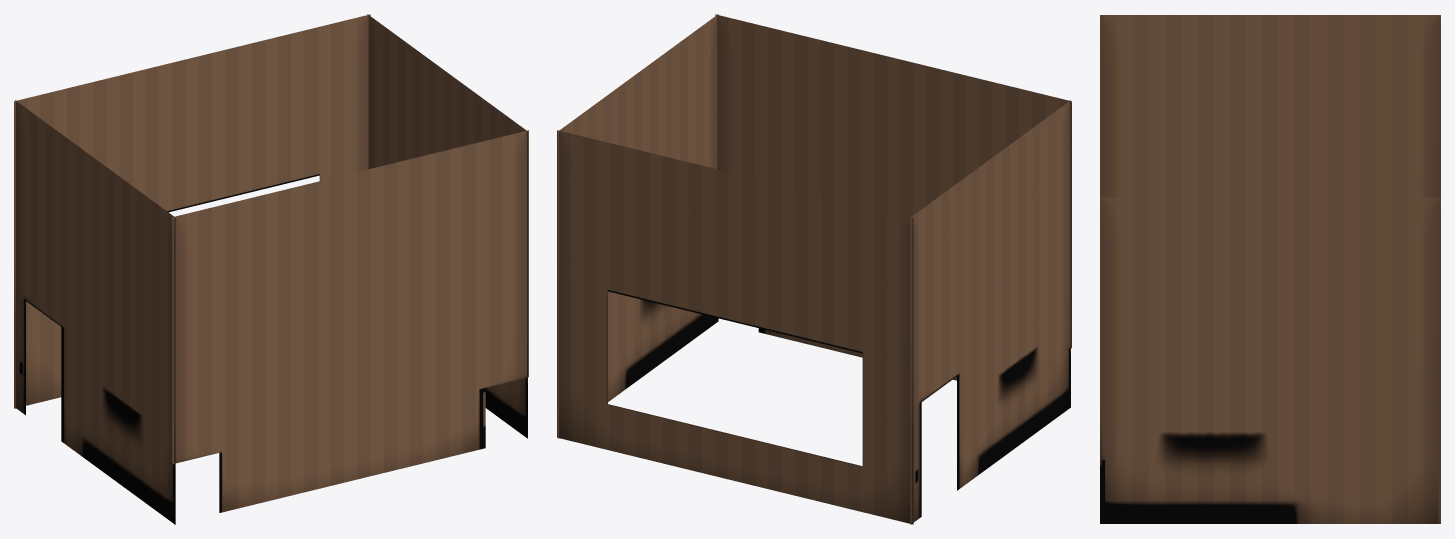
Rendered from DefaultLevel_N_Wall.fbx.
3 views of the same model, side by side, from view 1: azimuth 30°, elevation 25°; view 2: azimuth 150°, elevation 25°; view 3: azimuth 270°, elevation 25° (orthographic). The views are drawn at different scales.
Parts seen in each view (by area): view 1: DefaultLevel_N_Wall; view 2: DefaultLevel_N_Wall; view 3: DefaultLevel_N_Wall.
Part boxes in pixels (x1,y1,x2,y2): DefaultLevel_N_Wall: (14,14,528,524); DefaultLevel_N_Wall: (557,14,1071,524); DefaultLevel_N_Wall: (1100,15,1440,523).
Size of the model in its own units: 1820 by 1500 by 1420.
